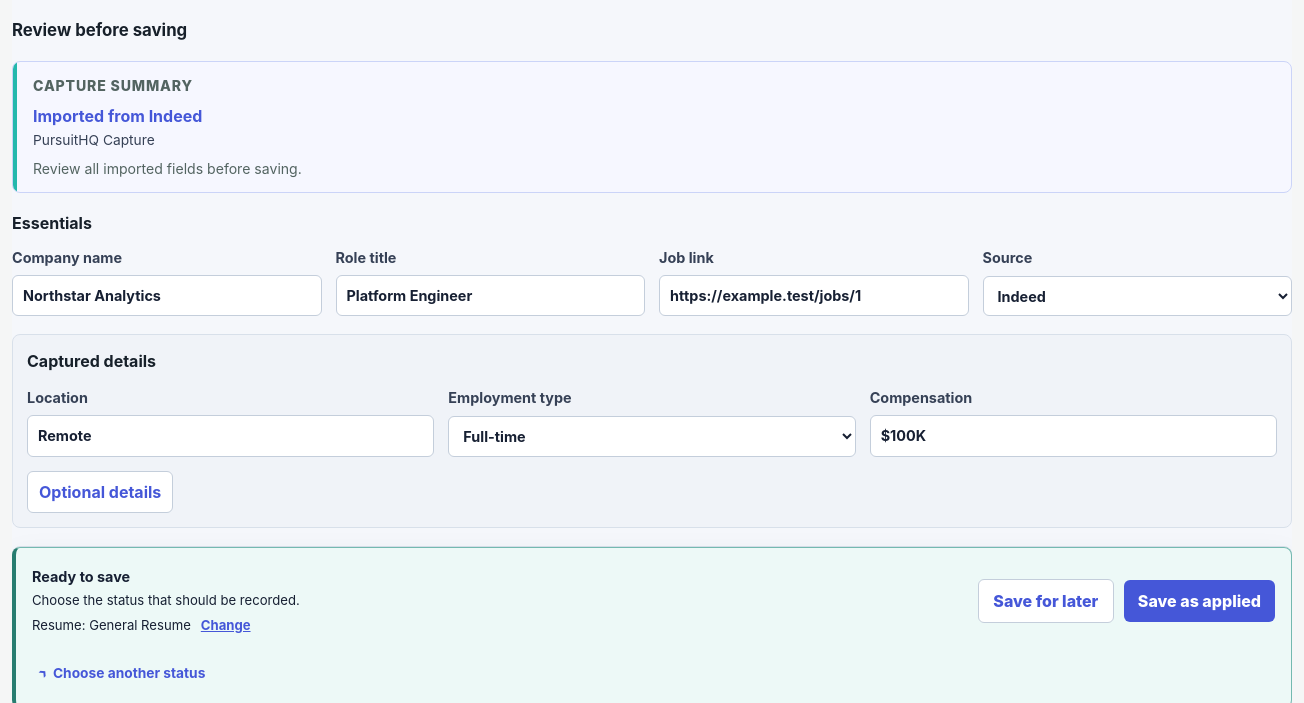
Scenario: CaptureReviewForm Browser Capture quick finish › confirms the selected Browser Capture resume and focuses the existing selector when changed
Step 1. Click the button "Change" → (226, 625), box [197,613,254,637]
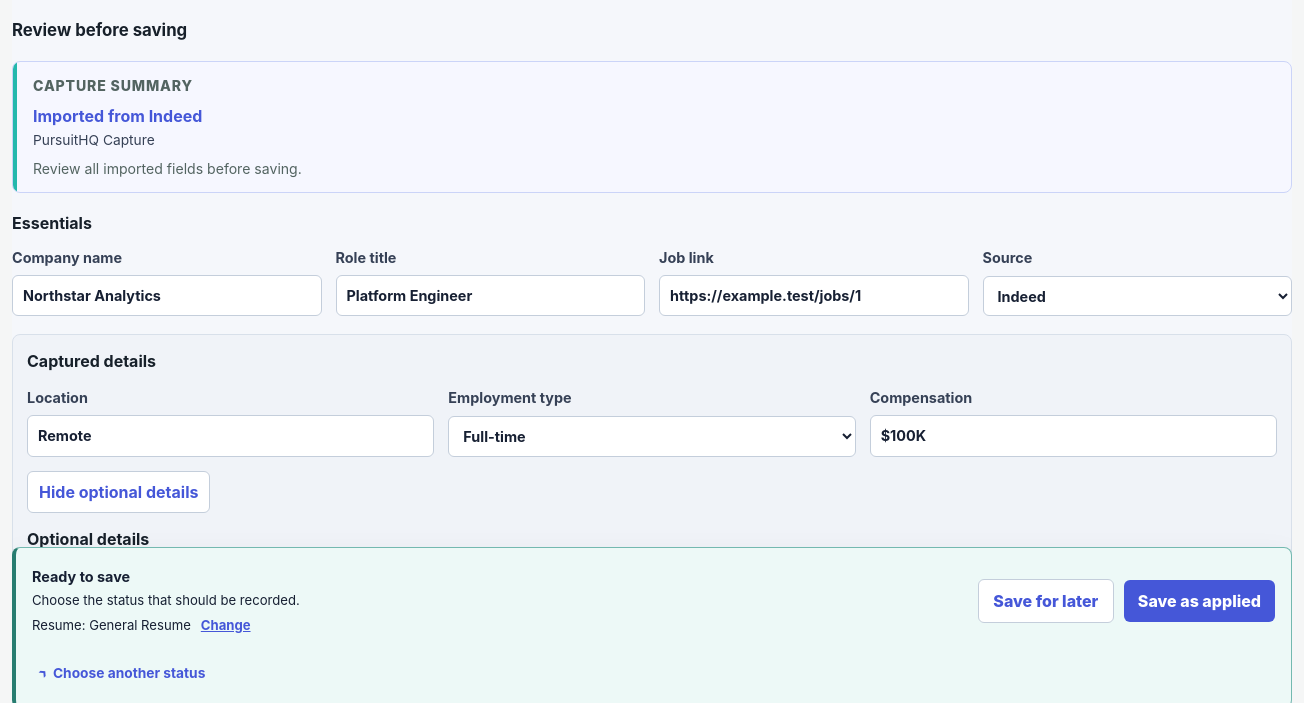
expect the text "optional details" is shown: met, box [27,471,210,513]
expect the number of dropdowns named "resume_version_id" is 1: met, box [27,619,434,660]
